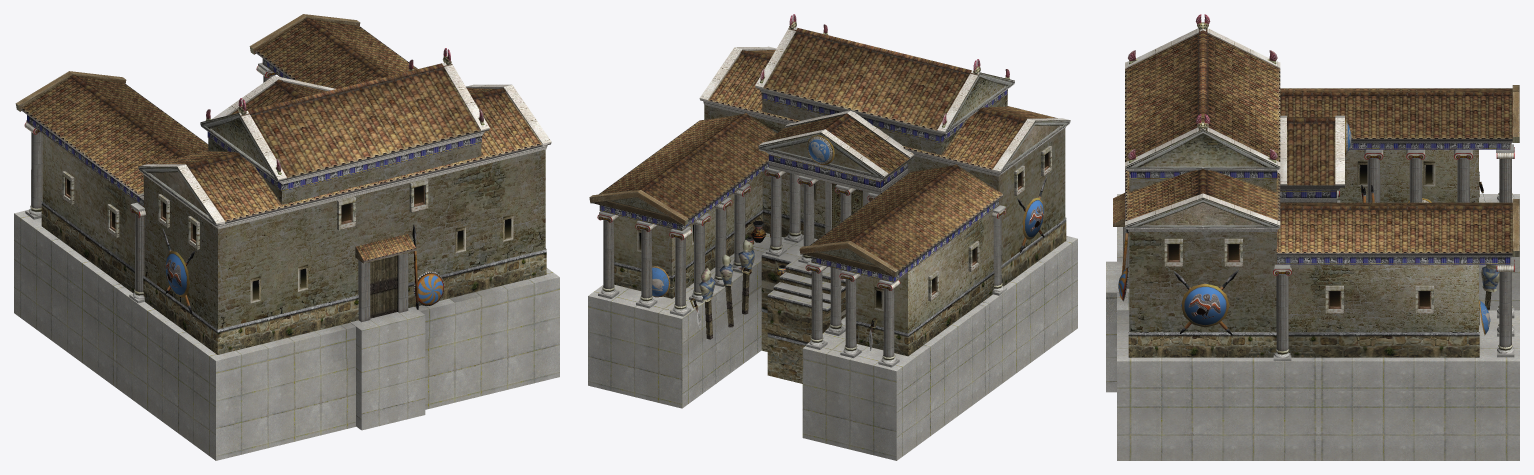
File: barracks.glb
3 views of the same model, side by side, from view 1: azimuth 30°, elevation 25°; view 2: azimuth 150°, elevation 25°; view 3: azimuth 270°, elevation 25° (orthographic). The views are drawn at different scales.
Parts seen in each view (by area): view 1: barracks_part1, barracks_part4, barracks_part0, barracks_part2, barracks_part3; view 2: barracks_part1, barracks_part4, barracks_part0, barracks_part2, barracks_part3, barracks_part5; view 3: barracks_part1, barracks_part4, barracks_part0, barracks_part2, barracks_part3, barracks_part5.
Part boxes in pixels (bbox=[...]): barracks_part1: bbox=[15, 14, 546, 354]; barracks_part4: bbox=[14, 62, 559, 460]; barracks_part0: bbox=[20, 17, 551, 299]; barracks_part2: bbox=[31, 48, 513, 322]; barracks_part3: bbox=[165, 250, 444, 305]; barracks_part1: bbox=[589, 31, 1066, 383]; barracks_part4: bbox=[588, 166, 1077, 460]; barracks_part0: bbox=[599, 27, 1070, 363]; barracks_part2: bbox=[603, 14, 1051, 357]; barracks_part3: bbox=[652, 135, 1043, 297]; barracks_part5: bbox=[597, 170, 1005, 290]; barracks_part1: bbox=[1113, 33, 1519, 357]; barracks_part4: bbox=[1106, 144, 1519, 460]; barracks_part0: bbox=[1125, 28, 1513, 358]; barracks_part2: bbox=[1121, 14, 1511, 351]; barracks_part3: bbox=[1118, 120, 1490, 334]; barracks_part5: bbox=[1273, 147, 1514, 275].
Bounding box in the file's own units: 3.87 × 3.34 × 4.
6 materials, 6 textured.
